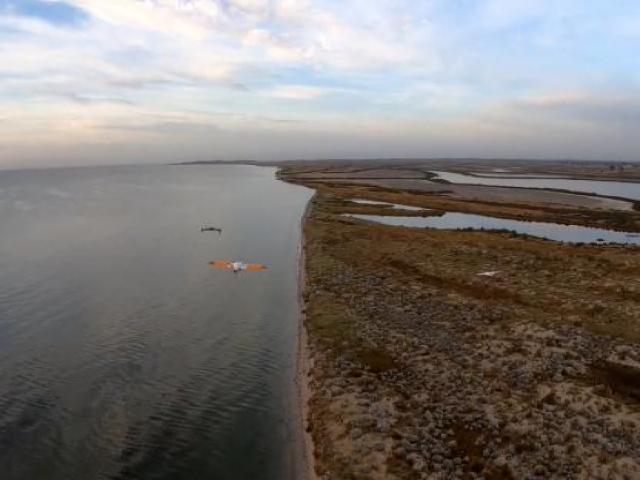uav: (206, 255, 268, 275)
